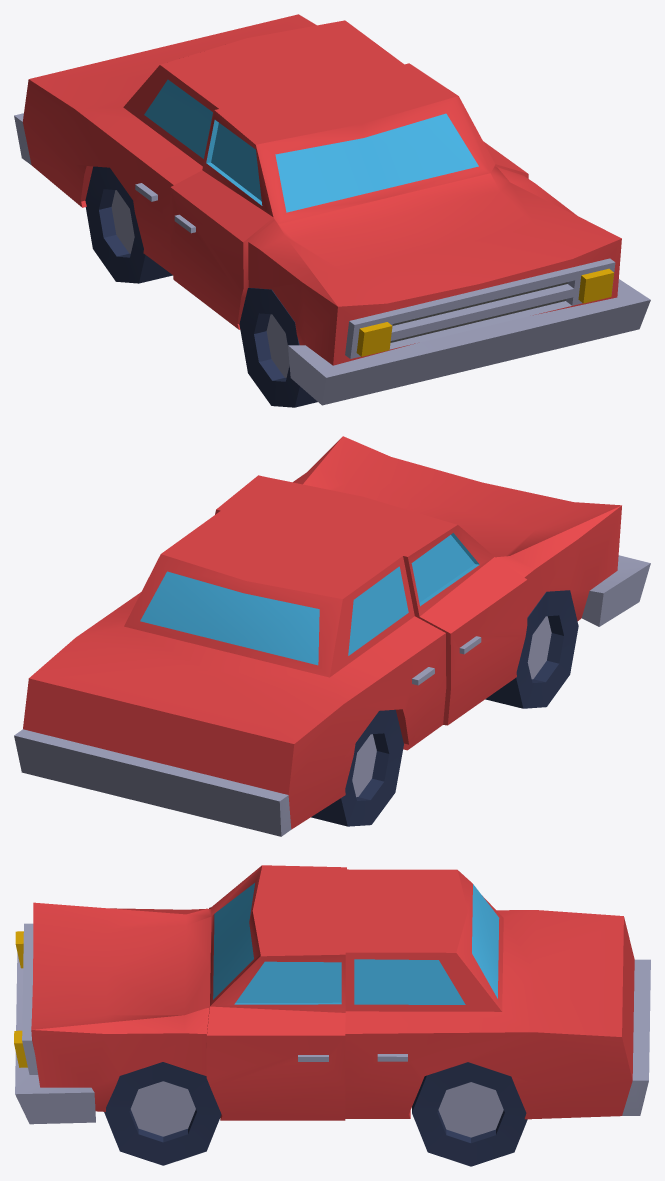
The model's file is car.fbx.
The picture shows the model from 3 angles, top to bottom: view 1: azimuth 30°, elevation 25°; view 2: azimuth 150°, elevation 25°; view 3: azimuth 270°, elevation 25°; orthographic projection. The views are drawn at different scales.
Parts seen in each view (by area): view 1: Cube.054; view 2: Cube.054; view 3: Cube.054.
Part boxes in pixels (box(x1,y1,x2,y2)): Cube.054: box(14, 14, 650, 407); Cube.054: box(14, 436, 650, 836); Cube.054: box(14, 865, 650, 1166).
Bounding box in the file's own units: 331 × 209 × 612.
